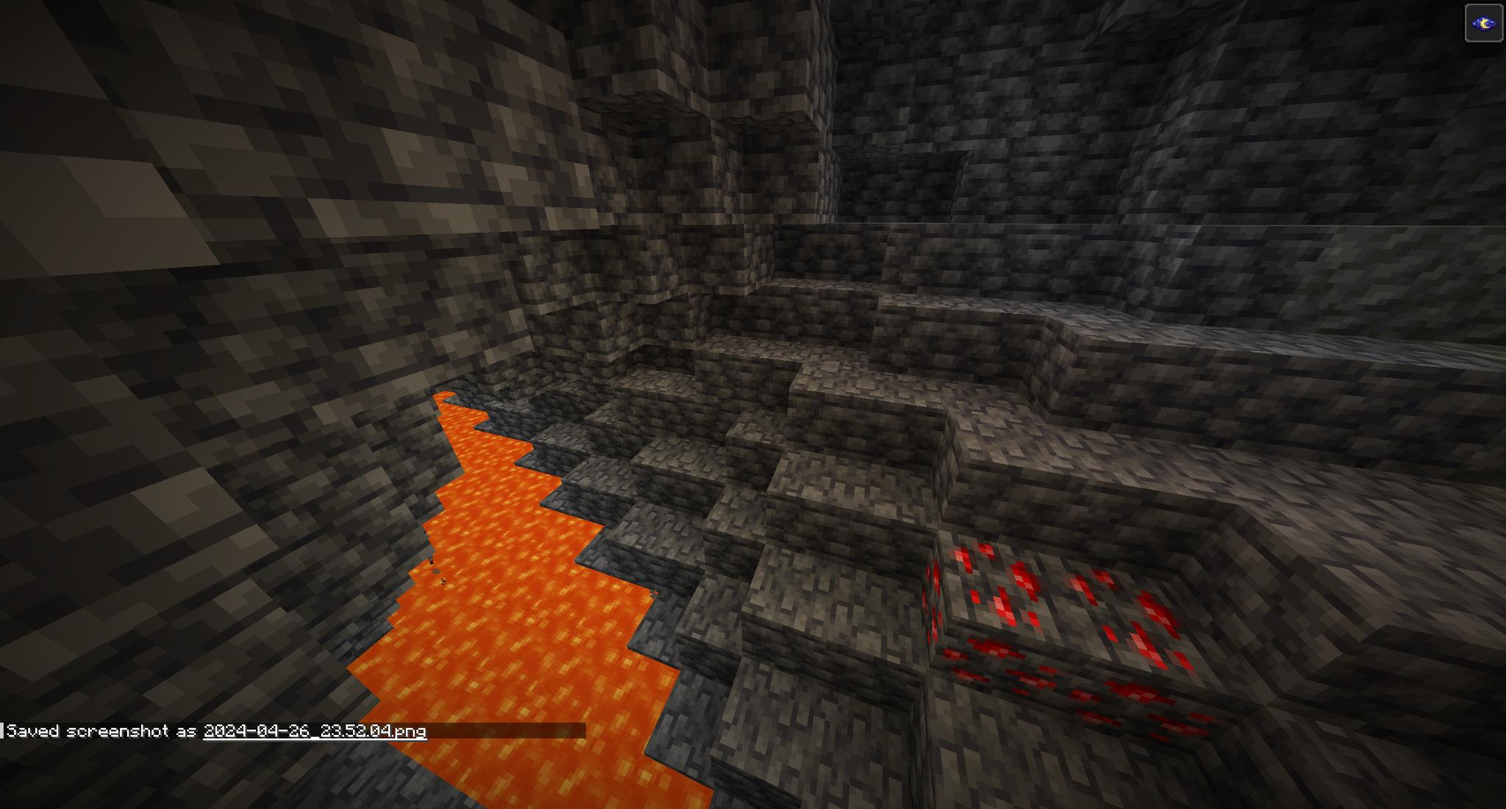redstone ore: (1049, 555, 1230, 759), (909, 529, 1065, 702)
